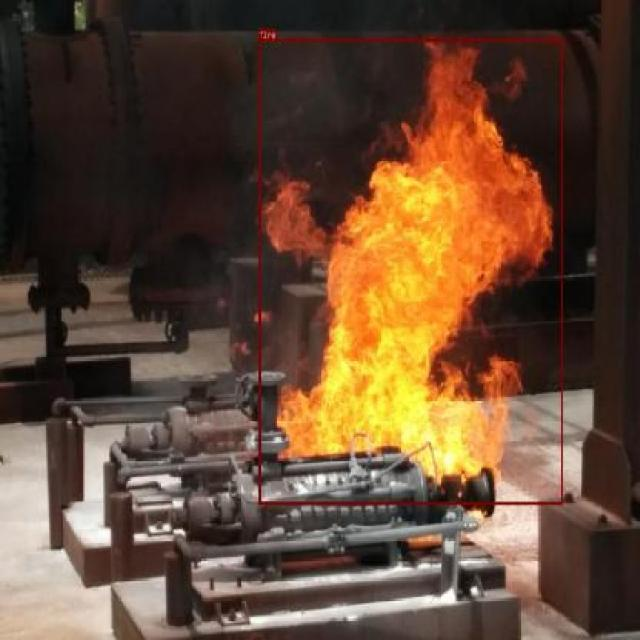Fire: (258, 38, 562, 504)
